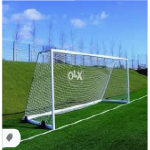goals: (23, 48, 131, 129)
